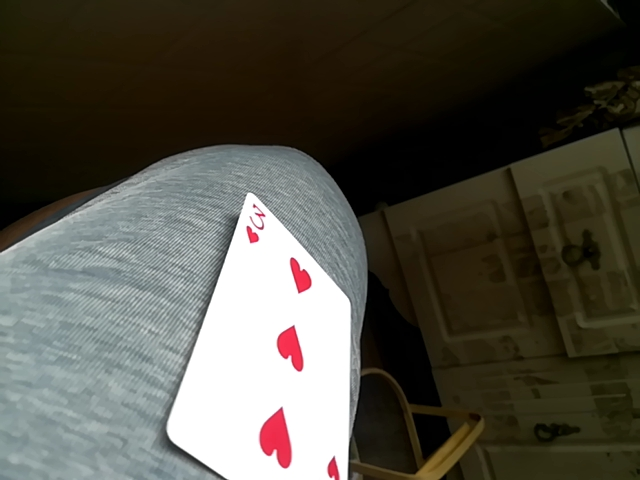hx 3: (168, 194, 356, 474)
